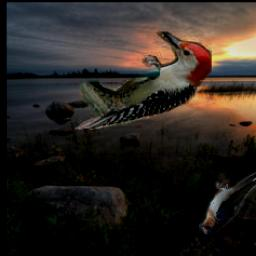Swallow: (200, 167, 256, 235)
Woodpecker: (76, 32, 213, 131)
